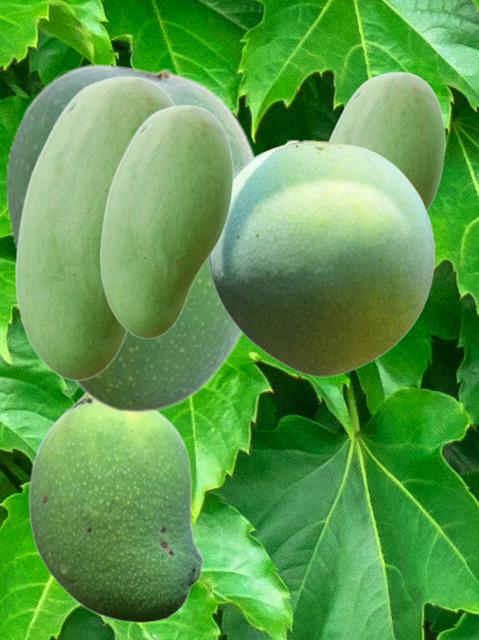green_mango: (5, 63, 257, 412), (207, 138, 434, 376), (14, 75, 177, 380), (28, 394, 203, 623), (99, 104, 232, 338), (328, 71, 444, 209)
